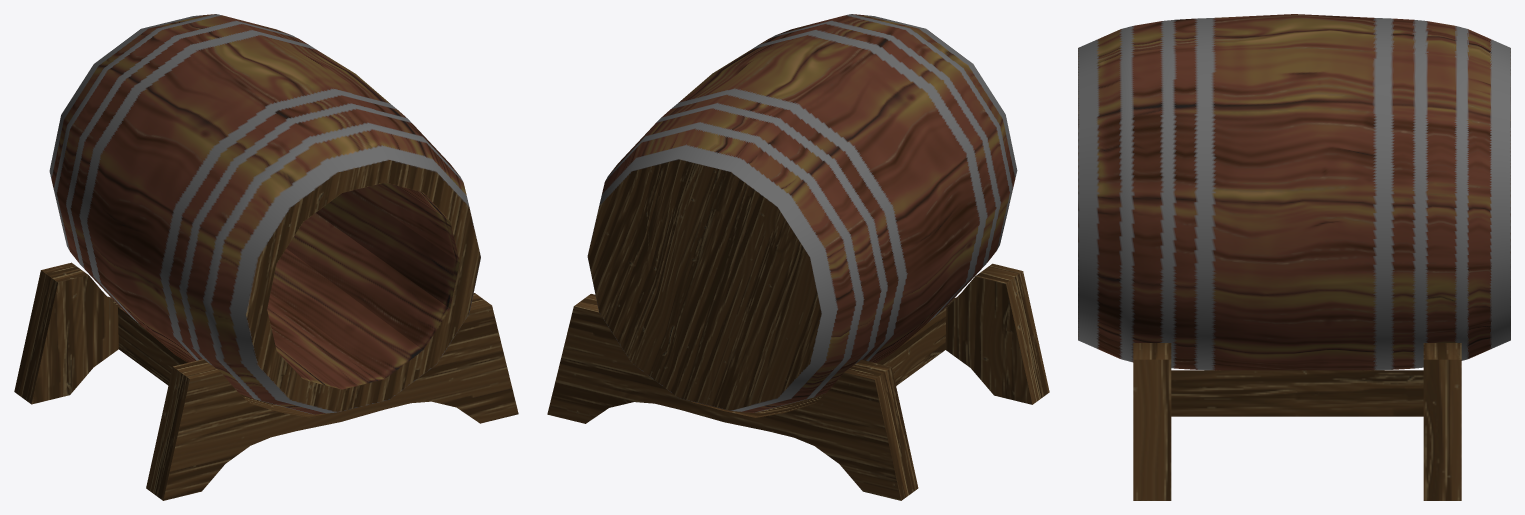
Rendered from Barrel.fbx.
The picture shows the model from 3 angles, left to right: view 1: azimuth 30°, elevation 25°; view 2: azimuth 150°, elevation 25°; view 3: azimuth 270°, elevation 25°; orthographic projection. The views are drawn at different scales.
Visible parts, largest first — view 1: BarileApertoAppoggiato; view 2: BarileApertoAppoggiato; view 3: BarileApertoAppoggiato.
Boxes of the visible parts, x1,y1,x2,y2 form: BarileApertoAppoggiato: (14, 14, 518, 500); BarileApertoAppoggiato: (547, 14, 1049, 500); BarileApertoAppoggiato: (1078, 14, 1510, 500).
Size of the model in its own units: 0.741 by 0.6737 by 0.7092.
